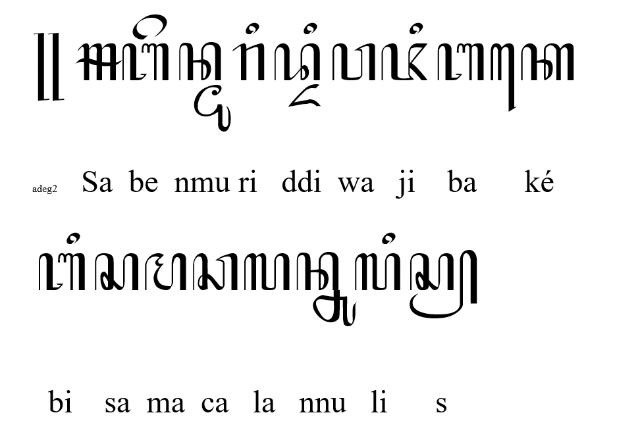-s: (409, 249, 477, 319)
S: (76, 44, 122, 80)
_d: (288, 84, 320, 106)
_mu: (194, 84, 232, 132)
adeg2: (34, 32, 64, 100)
b: (122, 42, 170, 82), (37, 253, 84, 292), (437, 43, 485, 81)
c: (192, 254, 238, 290)
d: (274, 43, 320, 81)
e: (132, 13, 168, 39)
e1: (490, 42, 516, 112)
i: (244, 22, 260, 34), (66, 232, 80, 245), (303, 22, 317, 34), (409, 23, 423, 35), (382, 233, 396, 245)
j: (380, 43, 428, 81)
k: (520, 43, 574, 81)
l: (354, 253, 401, 291), (244, 253, 290, 291)
m: (145, 253, 187, 291)
n: (178, 42, 222, 82)
nnu: (296, 252, 358, 328)
r: (233, 43, 265, 81)
s: (94, 253, 140, 291)
w: (332, 43, 376, 81)
